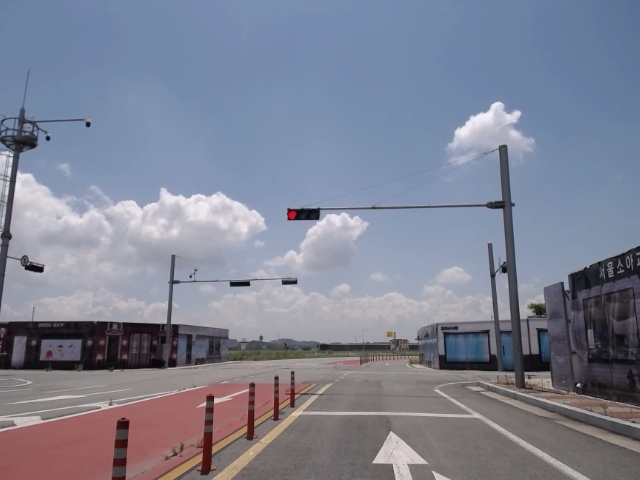red_3: (285, 208, 320, 222)
